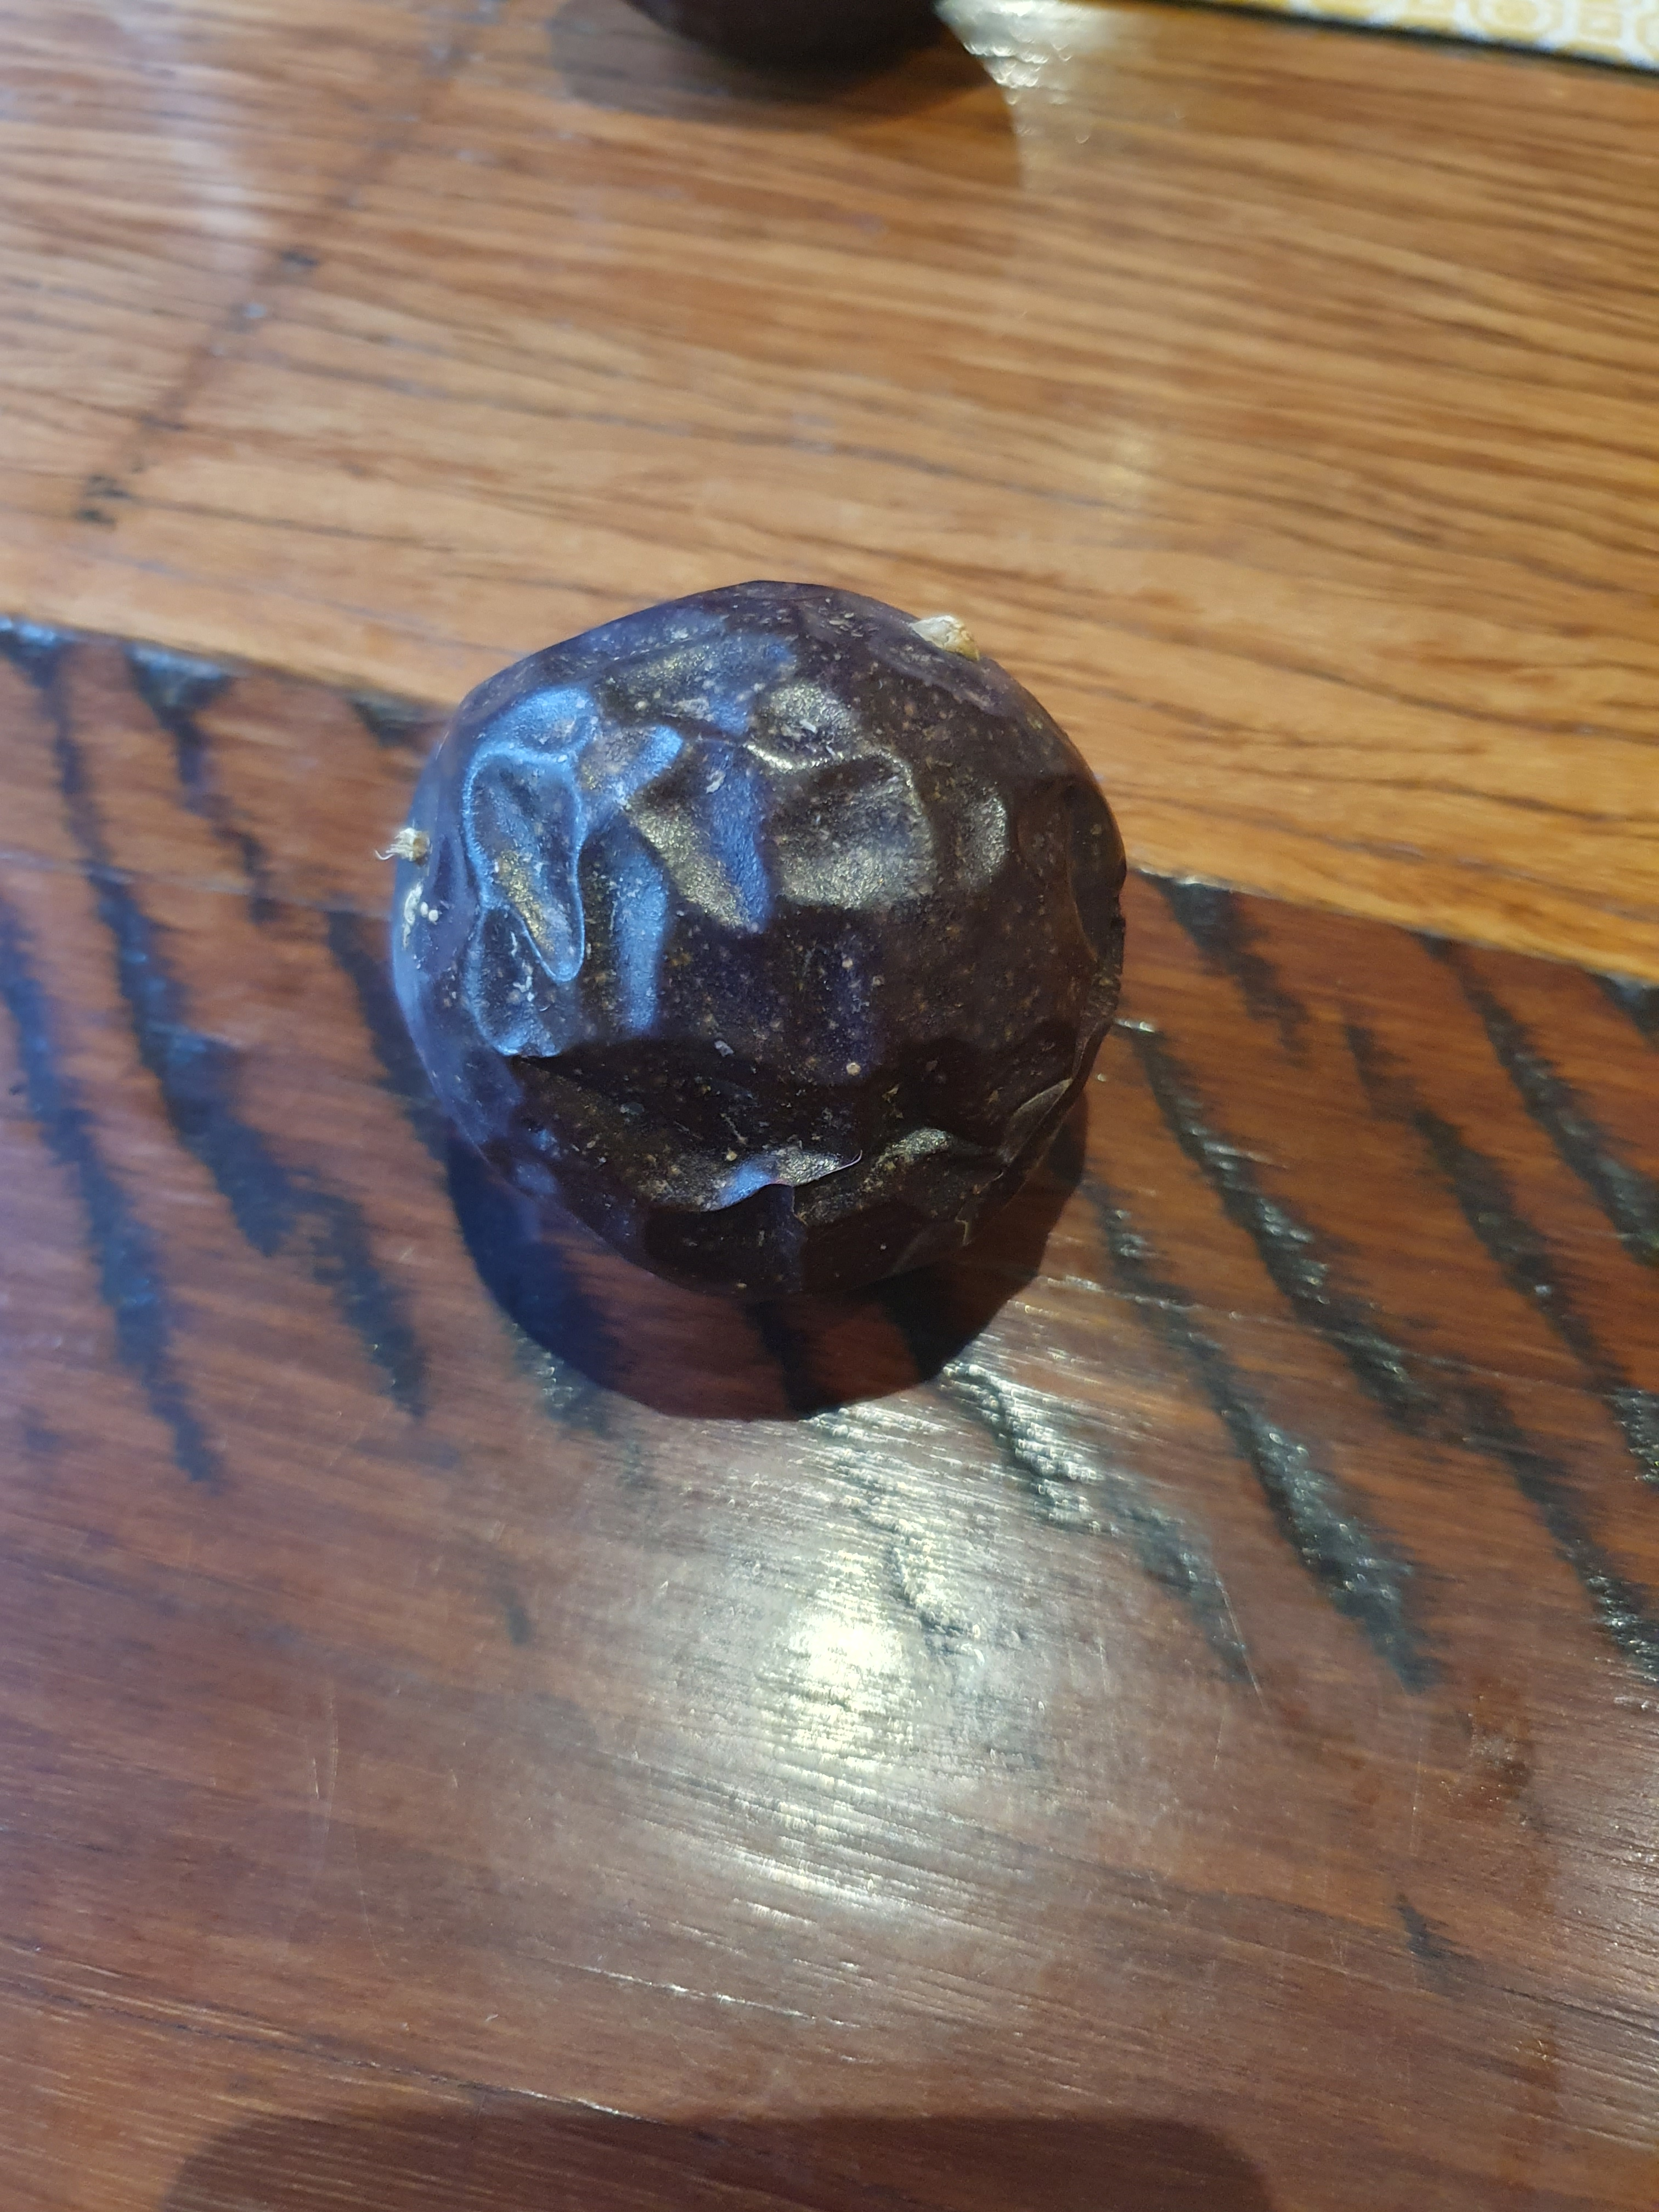passionfruit: (315, 528, 1161, 1315)
